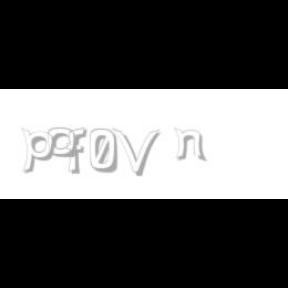0: (89, 128, 120, 174)
V: (112, 128, 160, 176)
f: (67, 128, 91, 174)
n: (174, 128, 208, 162)
o: (48, 128, 76, 158)
p: (22, 128, 58, 174)
